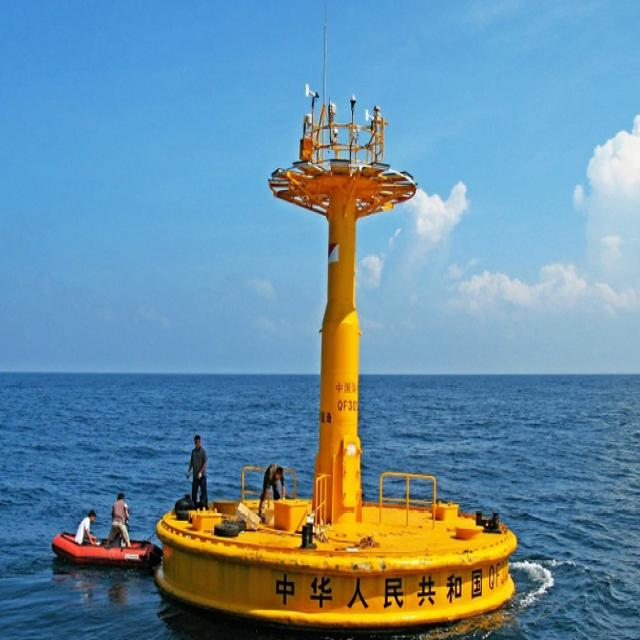buoy: (159, 87, 520, 622)
